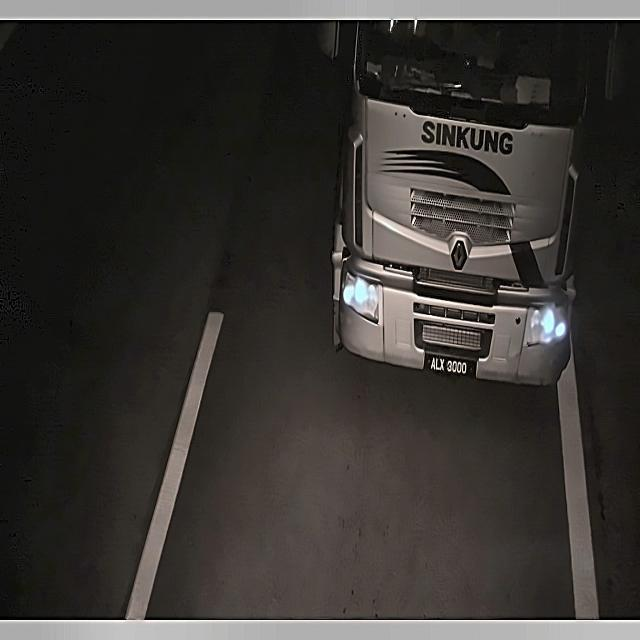car: (420, 348, 479, 384)
